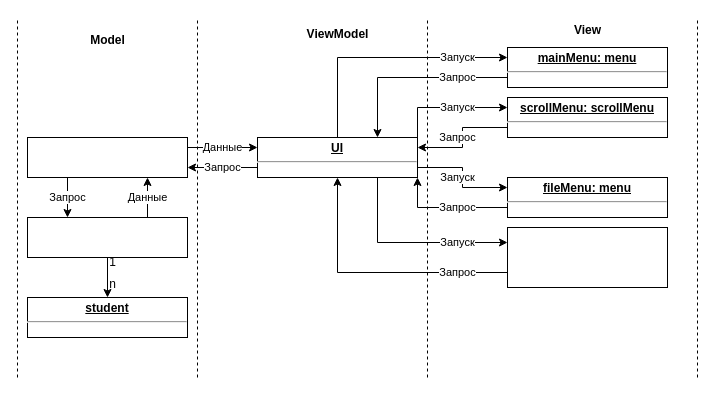
The diagram is 716 pixels wide and 396 high, and some of its shapes have lost their labels. Here are the shapes that lost their labels. From the top down, the centre of each, then its label:
At point 107,157: "studentService".
At point 107,237: "studentRepository: tree".
At point 587,257: "badStudentsMenu: scrollMenu".
